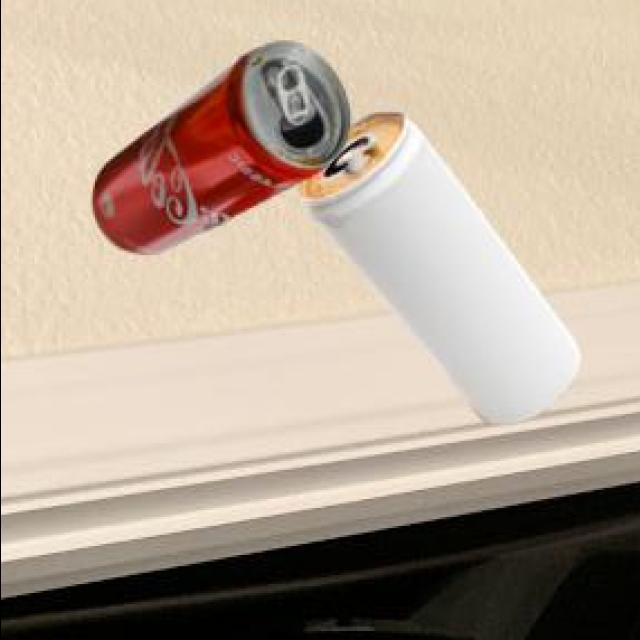logam: (294, 109, 576, 422), (88, 39, 346, 252)
